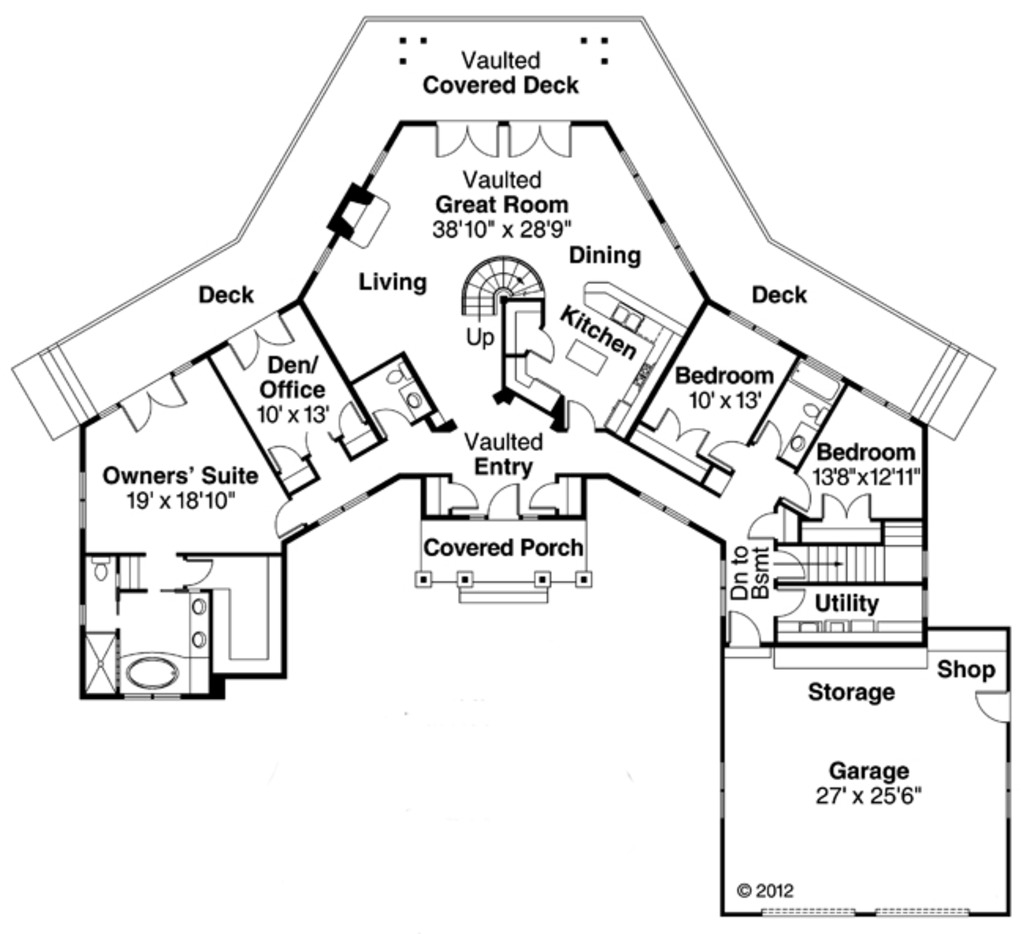door: (109, 367, 193, 435), (223, 309, 296, 369), (505, 112, 581, 168), (425, 116, 499, 167), (654, 406, 711, 454), (725, 611, 771, 658), (816, 491, 879, 525), (514, 327, 564, 366), (747, 498, 787, 544), (740, 415, 784, 455), (775, 470, 816, 512), (977, 685, 1019, 726), (258, 495, 301, 535), (480, 478, 522, 518), (260, 440, 307, 472), (374, 402, 411, 442), (560, 393, 600, 430), (709, 436, 749, 473), (333, 400, 369, 440), (765, 544, 805, 580), (528, 475, 564, 514), (184, 553, 215, 592), (447, 475, 479, 510), (777, 583, 808, 618)
large_sink: (84, 548, 118, 590), (799, 395, 839, 429), (377, 358, 418, 385)
small_sink: (191, 589, 214, 661), (399, 385, 442, 422), (787, 435, 819, 458)
stairs: (455, 240, 558, 327), (799, 522, 923, 586)
tub: (121, 651, 188, 695)
twin_sink: (605, 301, 654, 341)
window: (638, 489, 690, 533), (763, 904, 858, 919), (874, 904, 971, 917), (79, 468, 93, 532), (717, 553, 728, 620)
